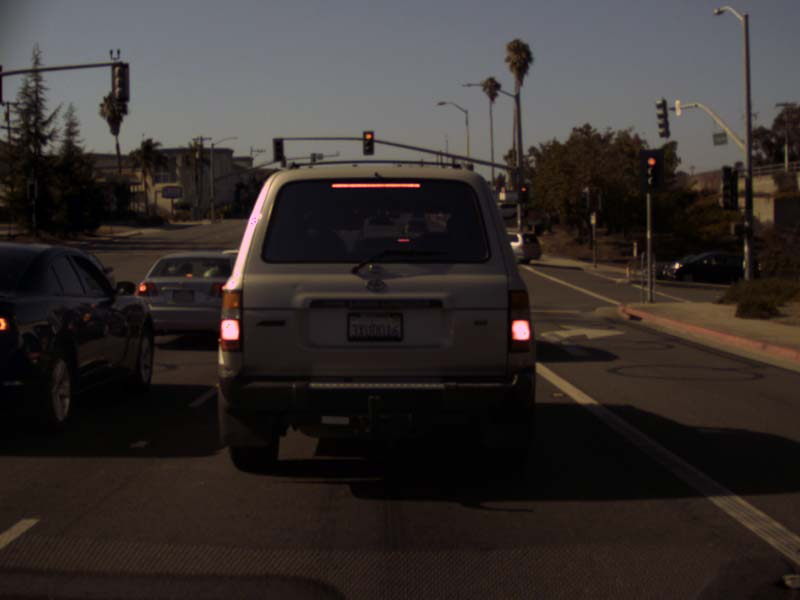Red: (640, 150, 664, 192), (362, 131, 373, 154), (517, 183, 528, 203), (28, 177, 35, 197)
